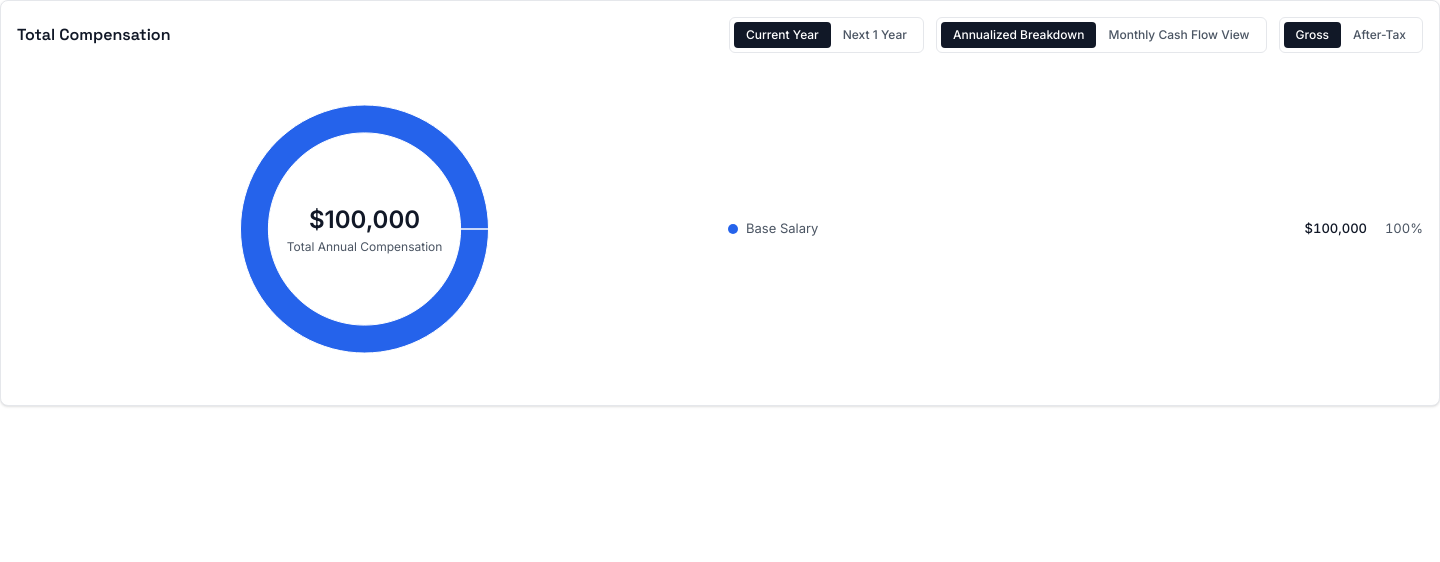
Test: CompHeroWidget after-tax toggle › shows gross label by default and after-tax when toggled
This screenshot has width=1440, height=562.
Expected: the text "Total Annual Compensation" is shown, [287, 238, 442, 256]
Click the button "After-Tax" at (1380, 35), box [1341, 22, 1418, 48]
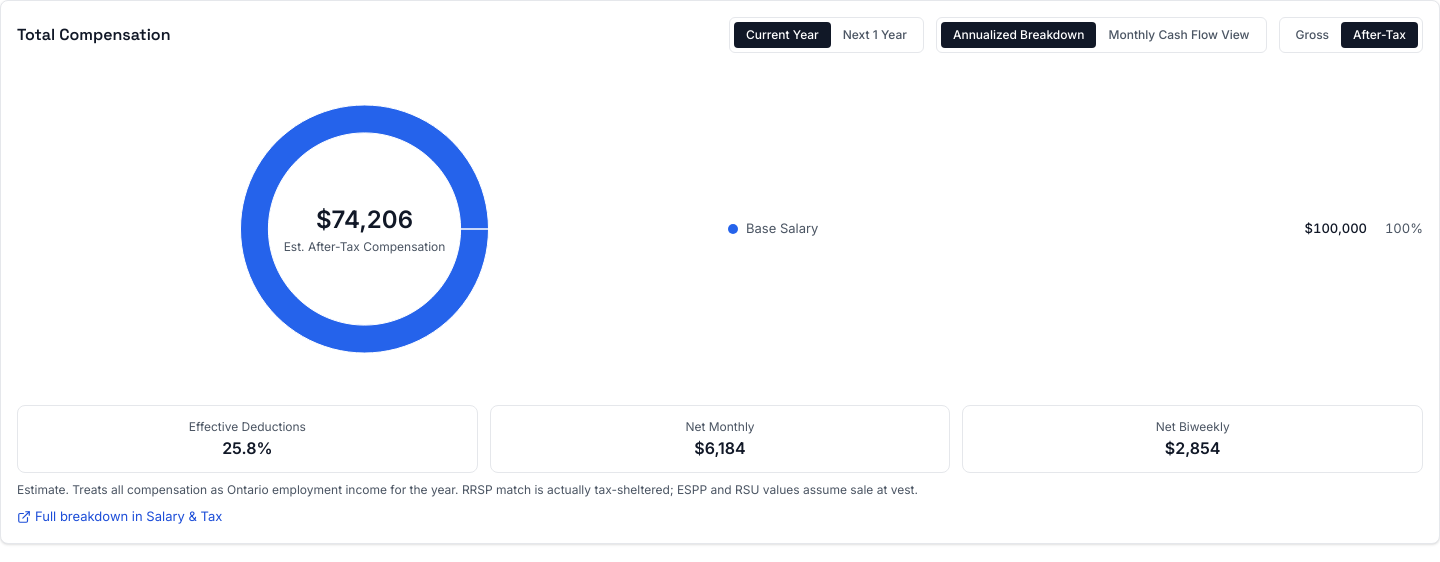
Result: the text "Est. After-Tax Compensation" is shown at [284, 238, 445, 256]
Result: the text "Net Monthly" is shown at [685, 419, 755, 434]
Result: the text "RRSP match is actually tax-sheltered" is shown at [269, 482, 918, 497]
